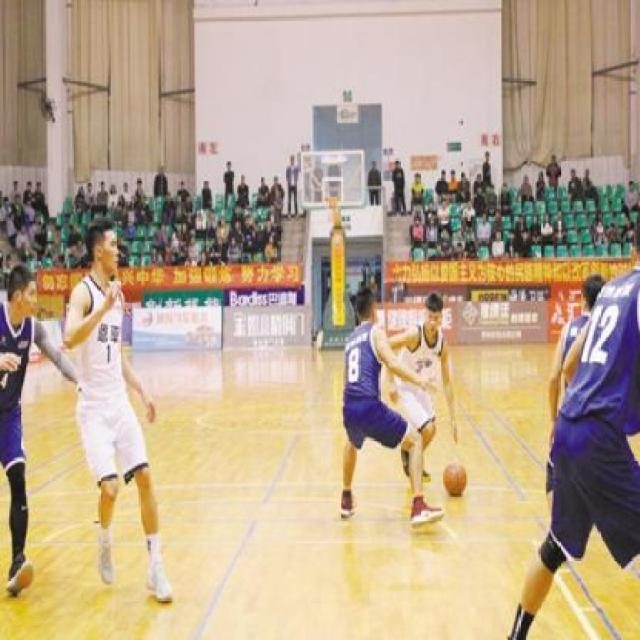basketball: (444, 461, 468, 495)
